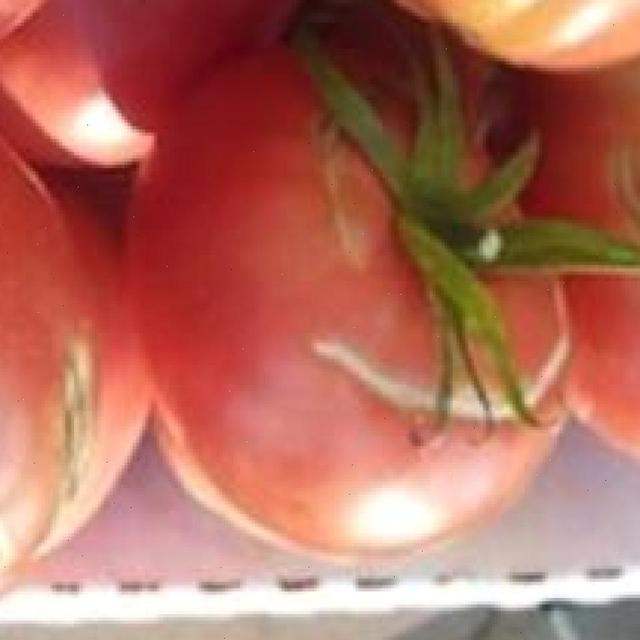Cracking Fruit: (47, 107, 286, 298)
